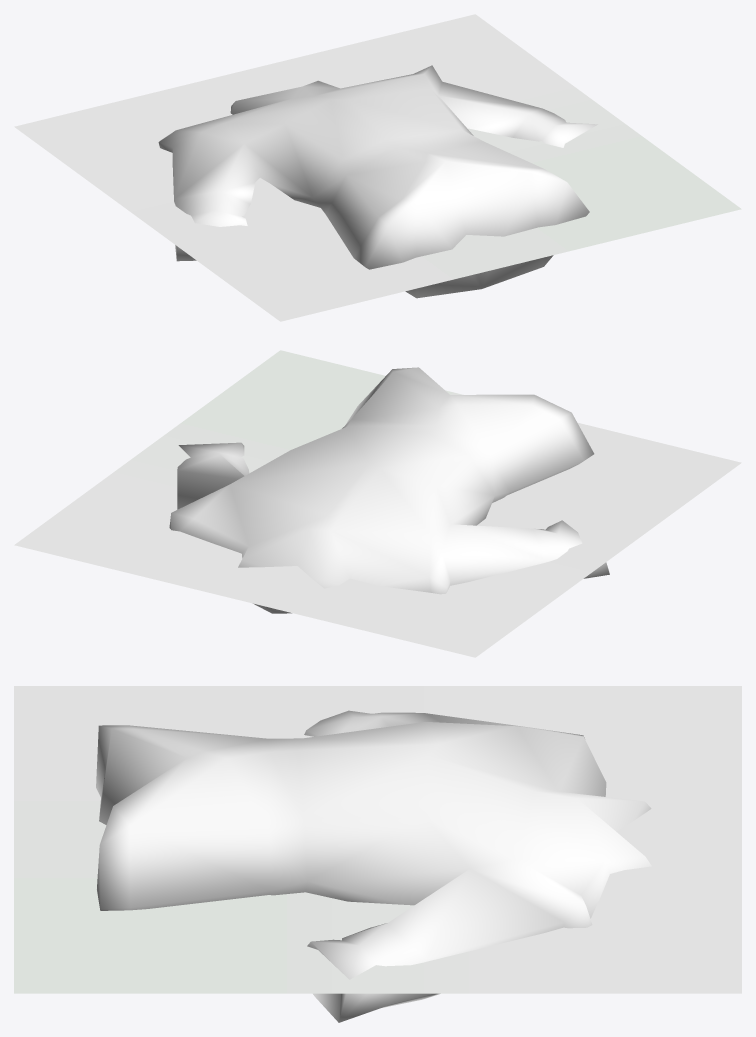
The model's file is ITAR_KM_HUNTER_03.glb.
3 views of the same model, one above another, from view 1: azimuth 30°, elevation 25°; view 2: azimuth 150°, elevation 25°; view 3: azimuth 270°, elevation 25° (orthographic). The views are drawn at different scales.
Parts seen in each view (by area): view 1: Mesh; view 2: Mesh; view 3: Mesh.
Boxes of the visible parts, x1,y1,x2,y2 form: Mesh: (14, 14, 741, 321); Mesh: (14, 350, 741, 657); Mesh: (14, 686, 741, 1022).
Size of the model in its own units: 0.8678 by 0.1847 by 0.8678.
2 materials, 1 textured.
